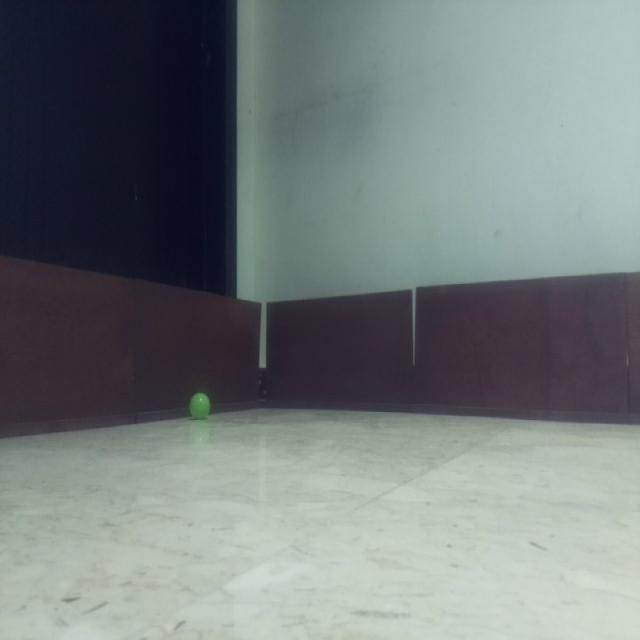ball: (186, 389, 214, 422)
